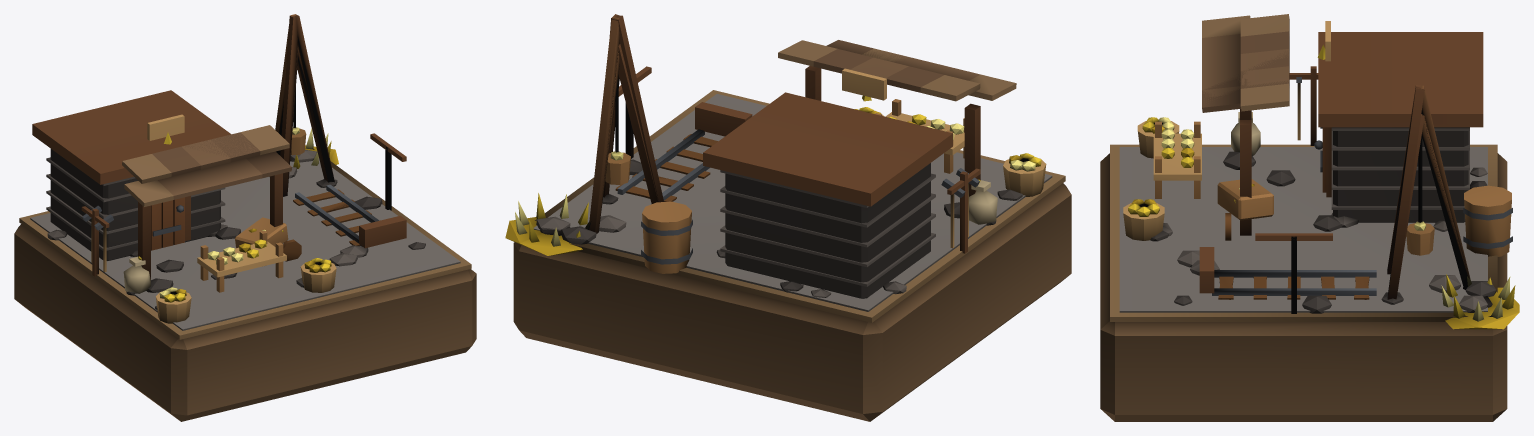
The model's file is sulfurmine.glb.
The picture shows the model from 3 angles, left to right: view 1: azimuth 30°, elevation 25°; view 2: azimuth 150°, elevation 25°; view 3: azimuth 270°, elevation 25°; orthographic projection. The views are drawn at different scales.
Parts seen in each view (by area): view 1: sulfurmine_l1, sulfurmine_l3, sulfurmine_l2; view 2: sulfurmine_l1, sulfurmine_l3, sulfurmine_l2; view 3: sulfurmine_l1, sulfurmine_l3, sulfurmine_l2.
Part boxes in pixels (x1=…): sulfurmine_l1: x1=14, y1=90, x2=476, y2=421; sulfurmine_l3: x1=126, y1=14, x2=425, y2=295; sulfurmine_l2: x1=47, y1=46, x2=360, y2=323; sulfurmine_l1: x1=505, y1=40, x2=1071, y2=421; sulfurmine_l3: x1=515, y1=14, x2=996, y2=273; sulfurmine_l2: x1=536, y1=41, x2=1046, y2=297; sulfurmine_l1: x1=1100, y1=14, x2=1519, y2=421; sulfurmine_l3: x1=1150, y1=74, x2=1515, y2=318; sulfurmine_l2: x1=1137, y1=51, x2=1510, y2=312.
Size of the model in its own units: 0.9073 by 0.7025 by 0.8651.
